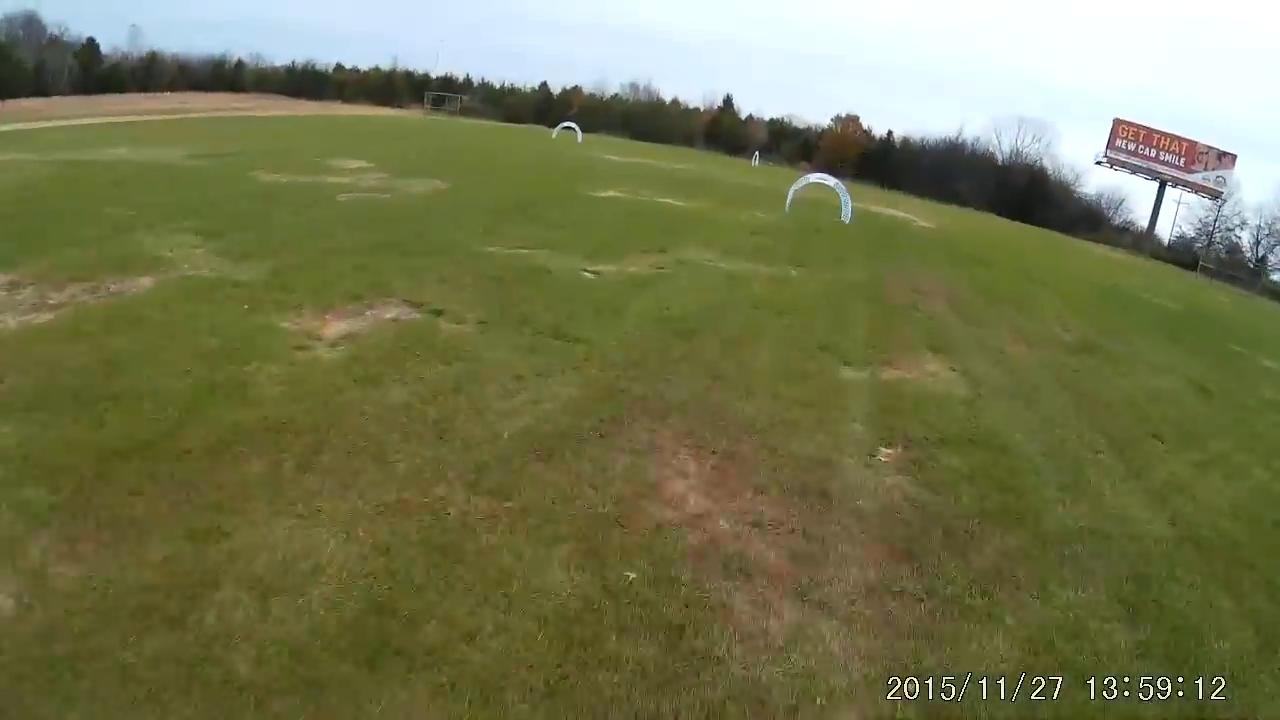gate: (785, 171, 854, 227)
